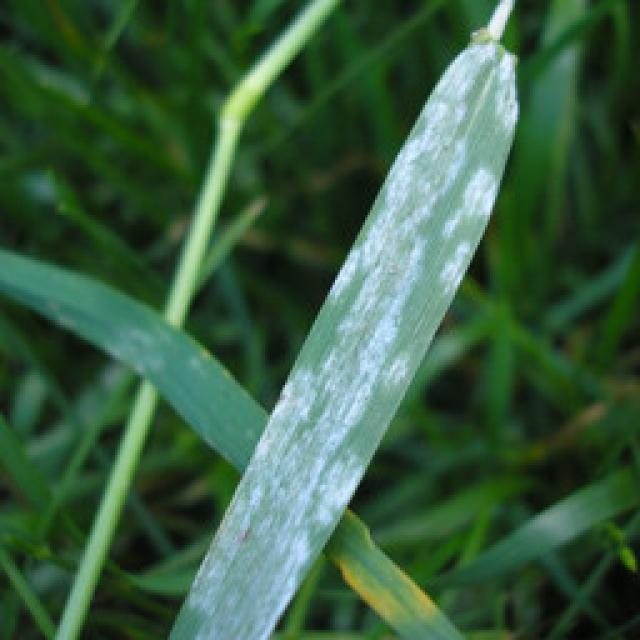wheat-powdery-mildew: (165, 32, 520, 640)
